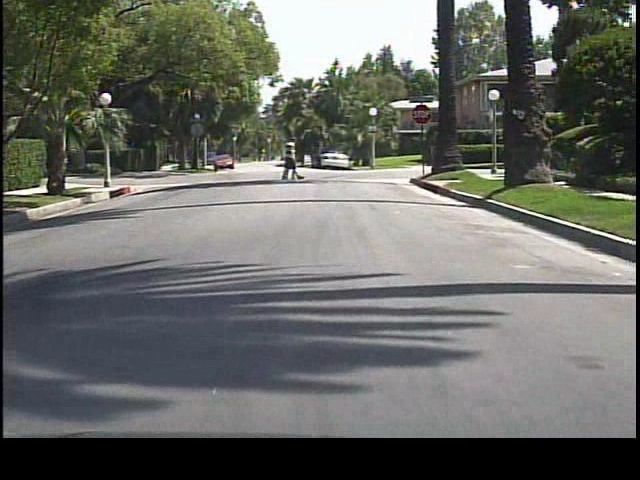person: (279, 136, 302, 183)
